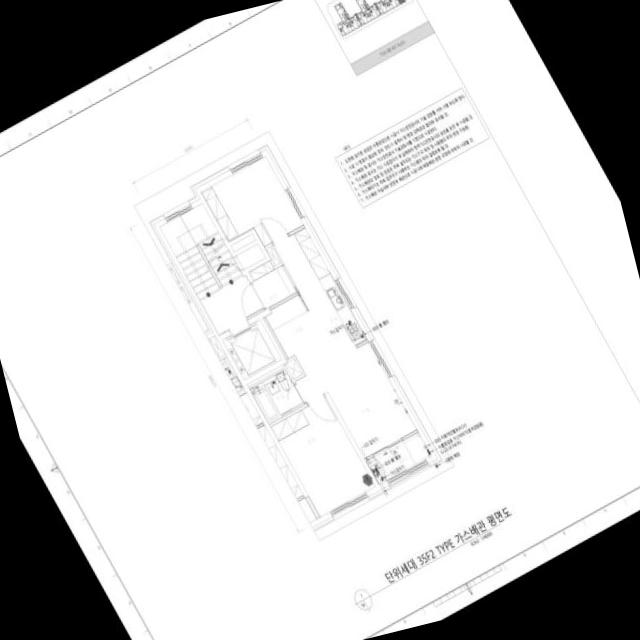background: (0, 0, 640, 640)
space_balconi: (373, 431, 431, 479)
space_bedroom: (270, 396, 375, 516), (200, 155, 303, 245)
space_elevator: (221, 319, 281, 379)
space_elevator_hall: (199, 275, 264, 334)
space_front: (249, 260, 295, 307)
space_kitchen: (264, 226, 366, 357)
space_living_room: (294, 326, 416, 457)
space_other: (235, 243, 265, 269), (365, 456, 385, 484), (230, 233, 255, 251), (284, 358, 302, 378), (265, 245, 280, 265)
space_staircase: (159, 202, 242, 300)
space_toilet: (249, 369, 303, 423)
